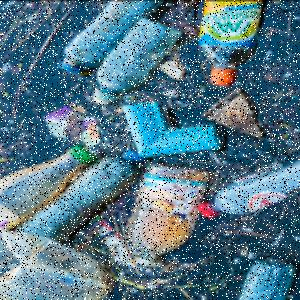Plastic-bottle: (14, 149, 145, 243), (129, 163, 213, 268), (1, 145, 99, 232), (93, 18, 185, 108), (58, 2, 165, 75), (198, 159, 300, 219), (198, 2, 267, 86), (238, 259, 299, 300)
Trash: (1, 230, 114, 300)
